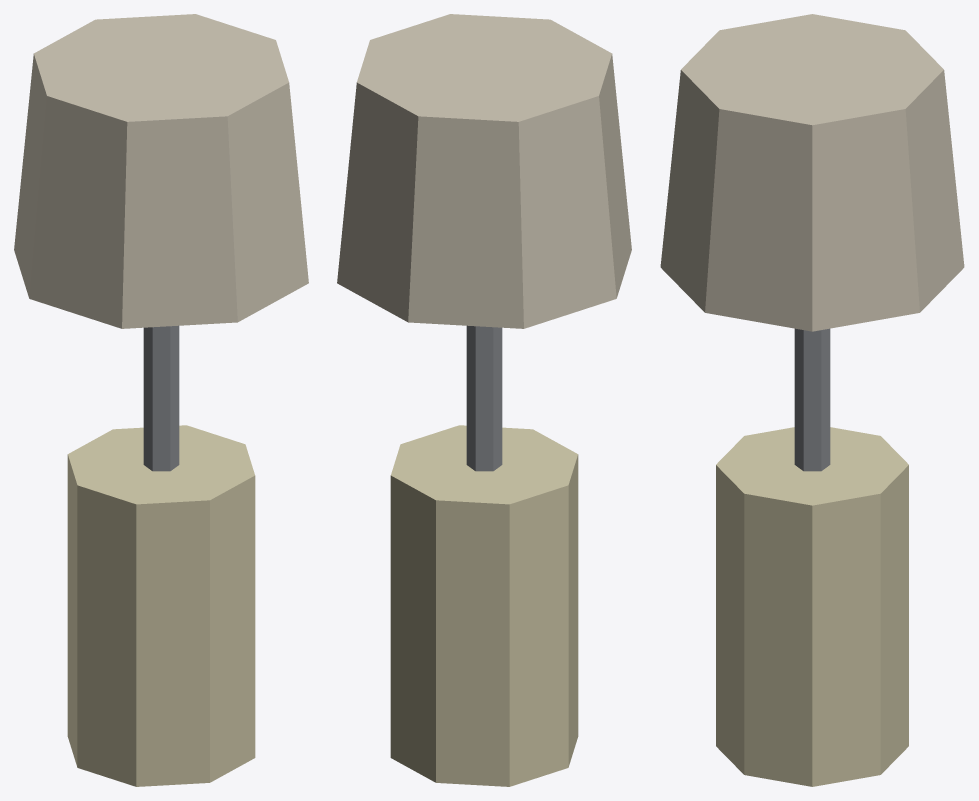
Rendered from table-lamp-16.glb.
The picture shows the model from 3 angles, left to right: view 1: azimuth 30°, elevation 25°; view 2: azimuth 150°, elevation 25°; view 3: azimuth 270°, elevation 25°; orthographic projection.
Parts seen in each view (by area): view 1: table_lamp_16; view 2: table_lamp_16; view 3: table_lamp_16.
Boxes of the visible parts, x1,y1,x2,y2 form: table_lamp_16: [14, 14, 308, 786]; table_lamp_16: [337, 14, 631, 786]; table_lamp_16: [660, 14, 964, 786].
Bounding box in the file's own units: 0.2046 × 0.5024 × 0.2046.
